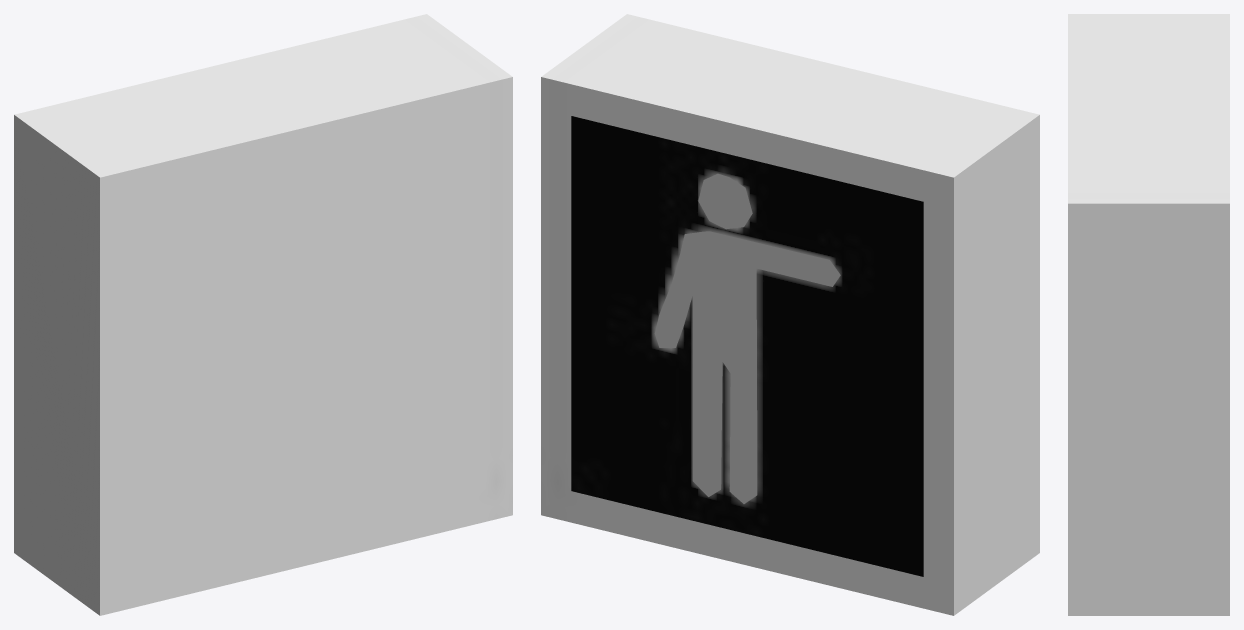
File: tag.fbx
3 renders of one model, left to right at view 1: azimuth 30°, elevation 25°; view 2: azimuth 150°, elevation 25°; view 3: azimuth 270°, elevation 25°, orthographic. The views are drawn at different scales.
Parts seen in each view (by area): view 1: Cube; view 2: Cube; view 3: Cube.
Boxes of the visible parts, x1,y1,x2,y2 form: Cube: (14, 14, 512, 615); Cube: (541, 14, 1039, 615); Cube: (1068, 14, 1229, 615).
Size of the model in its own units: 87.25 by 88.53 by 31.48.
Materials: 2 (1 with a texture image).
